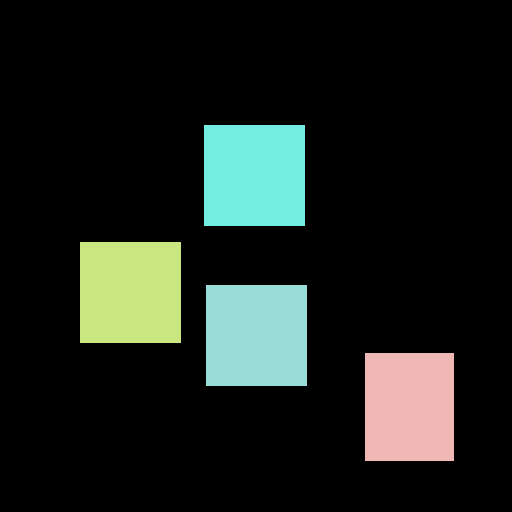rectangle: (365, 353, 453, 460)
square: (206, 285, 306, 385), (80, 242, 180, 342), (204, 125, 304, 225)
